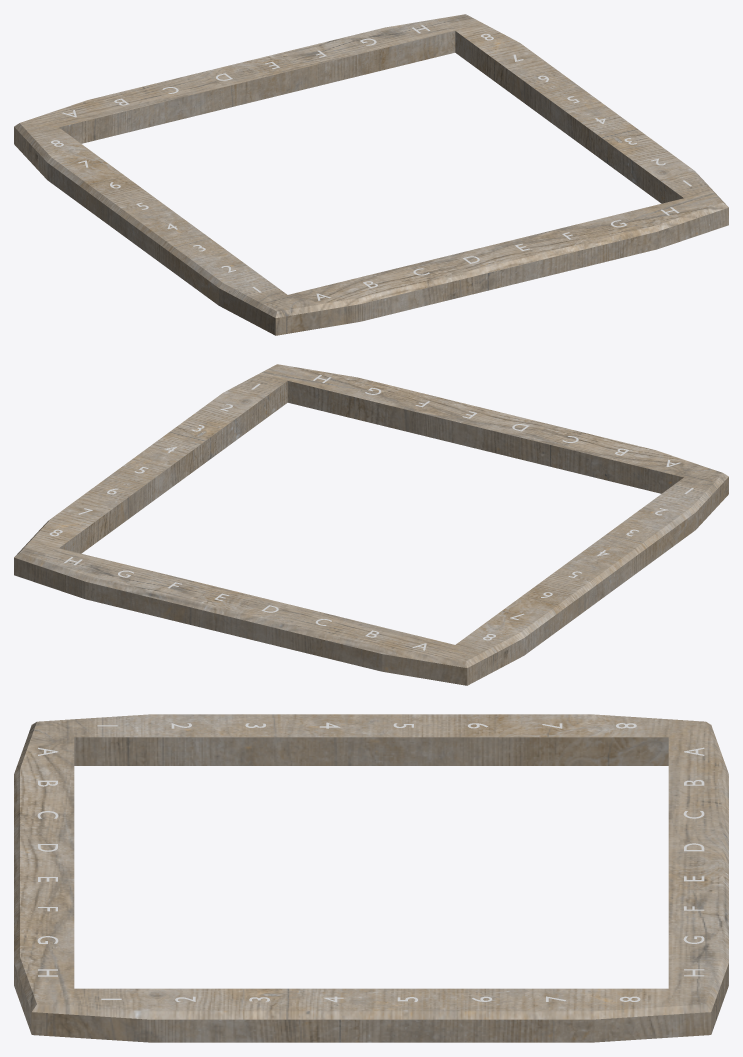
The picture shows the model from 3 angles, top to bottom: view 1: azimuth 30°, elevation 25°; view 2: azimuth 150°, elevation 25°; view 3: azimuth 270°, elevation 25°; orthographic projection. The views are drawn at different scales.
Parts seen in each view (by area): view 1: 木枠; view 2: 木枠; view 3: 木枠.
Boxes of the visible parts, bbox=[...] form: 木枠: bbox=[14, 14, 728, 335]; 木枠: bbox=[14, 364, 728, 685]; 木枠: bbox=[14, 714, 728, 1042].
Bounding box in the file's own units: 24.07 × 1.07 × 24.07.
